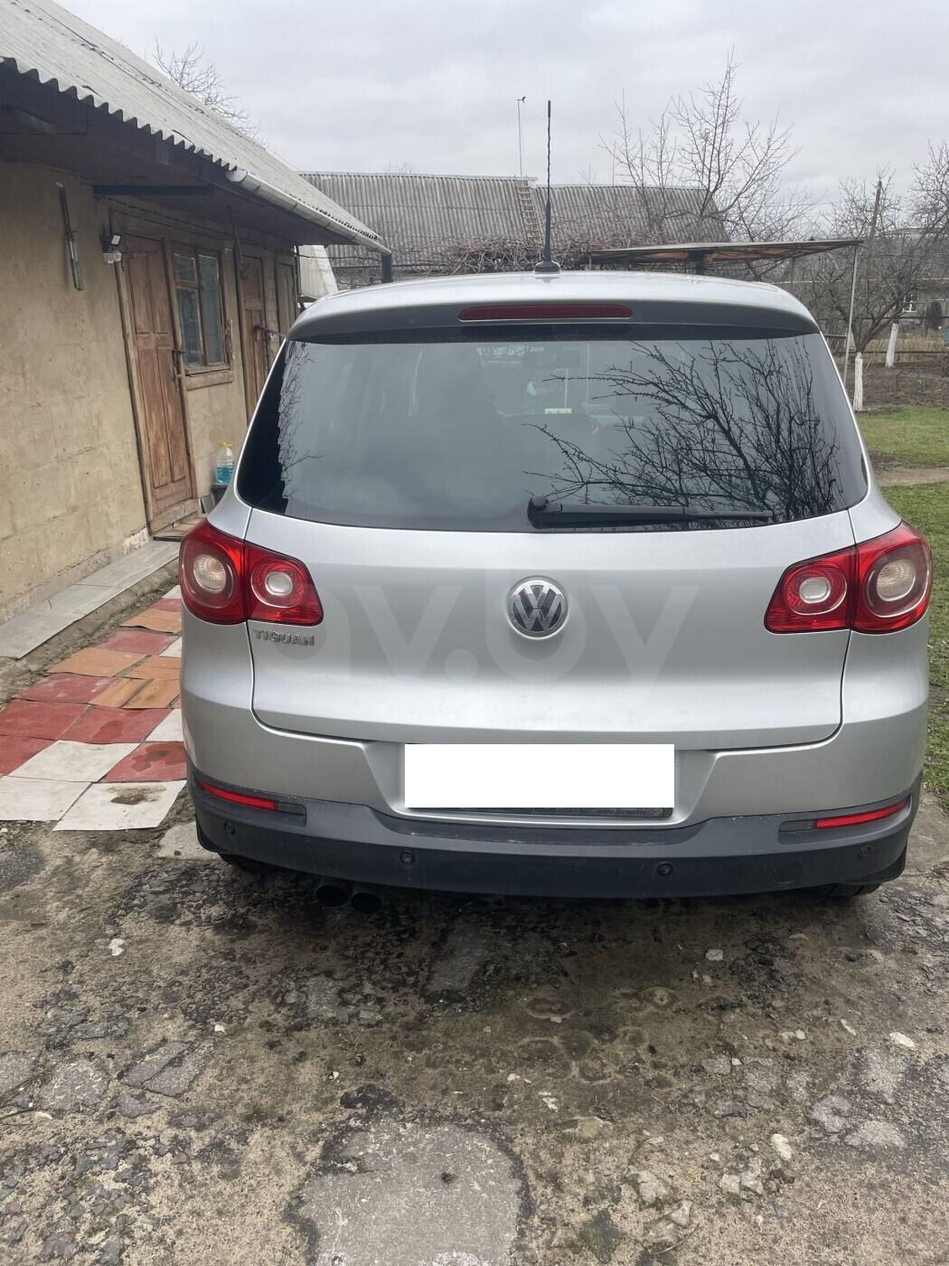Tiguan_2007-2011: (174, 264, 926, 910)
